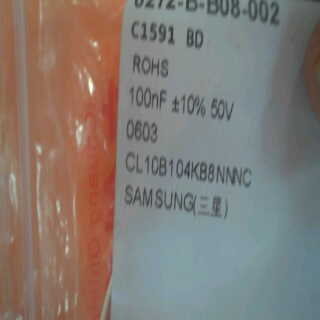100nF: (124, 82, 170, 112)
